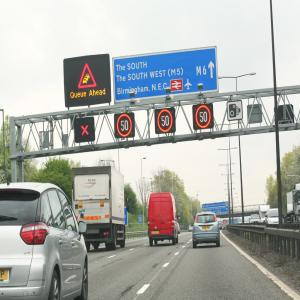Vehicle-registration-plate: (1, 270, 9, 281), (203, 226, 212, 231), (152, 232, 160, 235)
